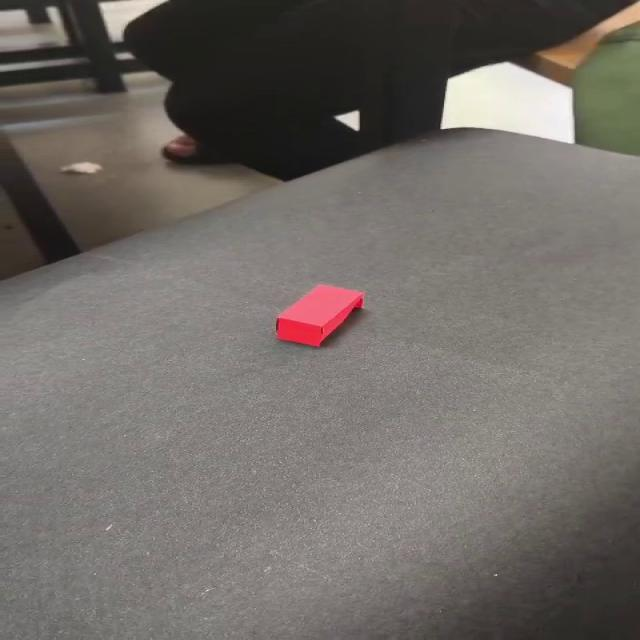red block: (274, 283, 366, 347)
